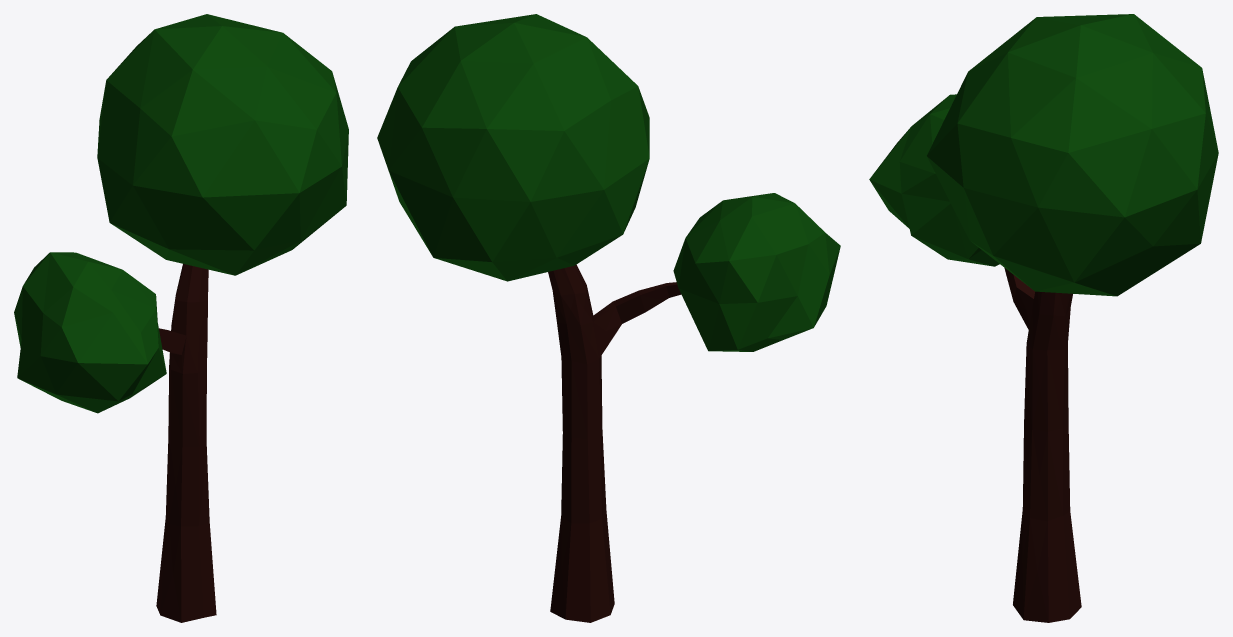
File: tree2.obj
The picture shows the model from 3 angles, left to right: view 1: azimuth 30°, elevation 25°; view 2: azimuth 150°, elevation 25°; view 3: azimuth 270°, elevation 25°; orthographic projection. The views are drawn at different scales.
Visible parts, largest first — view 1: Icosphere, Cylinder; view 2: Icosphere, Cylinder; view 3: Icosphere, Cylinder.
Boxes of the visible parts, bbox=[...] form: Icosphere: bbox=[14, 14, 348, 413]; Cylinder: bbox=[156, 264, 216, 622]; Icosphere: bbox=[377, 14, 840, 351]; Cylinder: bbox=[548, 264, 681, 622]; Icosphere: bbox=[869, 14, 1218, 296]; Cylinder: bbox=[1004, 268, 1081, 622].
Size of the model in its own units: 3.73 by 5.62 by 2.91.
